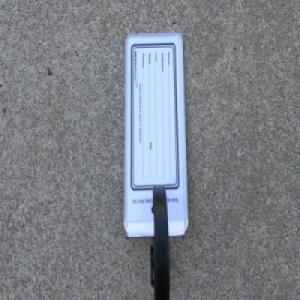LuggageTag: (122, 31, 190, 300)
